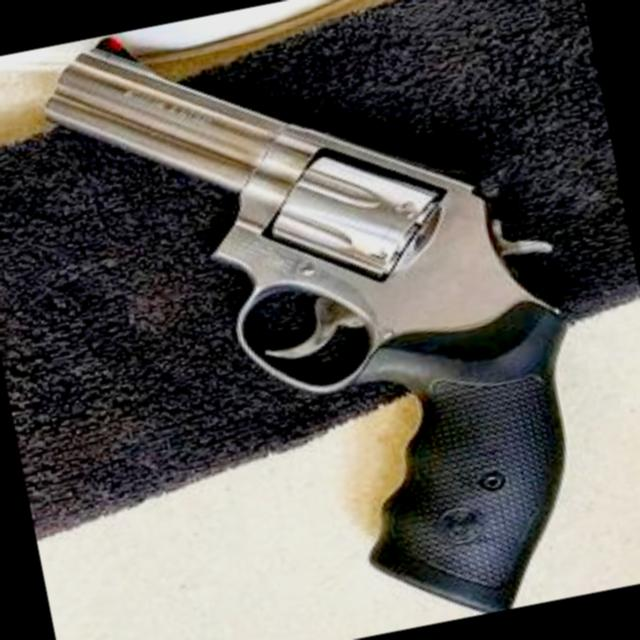revolver: (6, 0, 640, 640)
